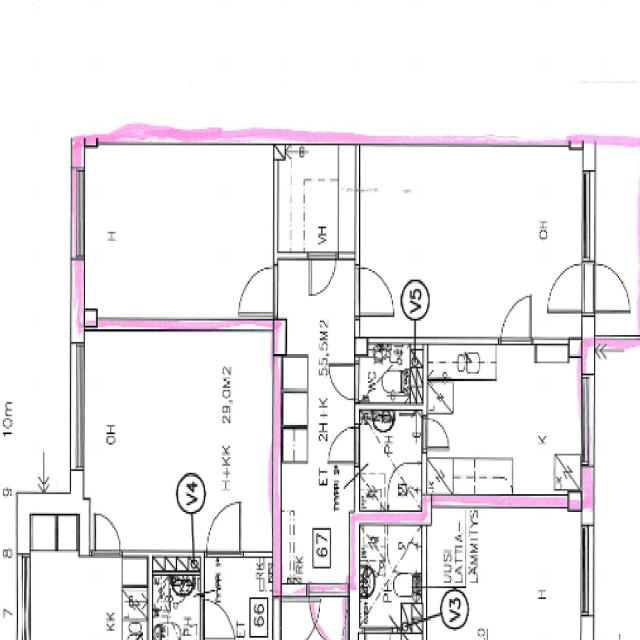door: (582, 263, 629, 311), (308, 581, 346, 640), (548, 263, 594, 311), (355, 267, 394, 315), (240, 266, 278, 312), (501, 295, 531, 344), (310, 252, 336, 294), (330, 363, 360, 398), (331, 427, 360, 460), (422, 418, 448, 447)
